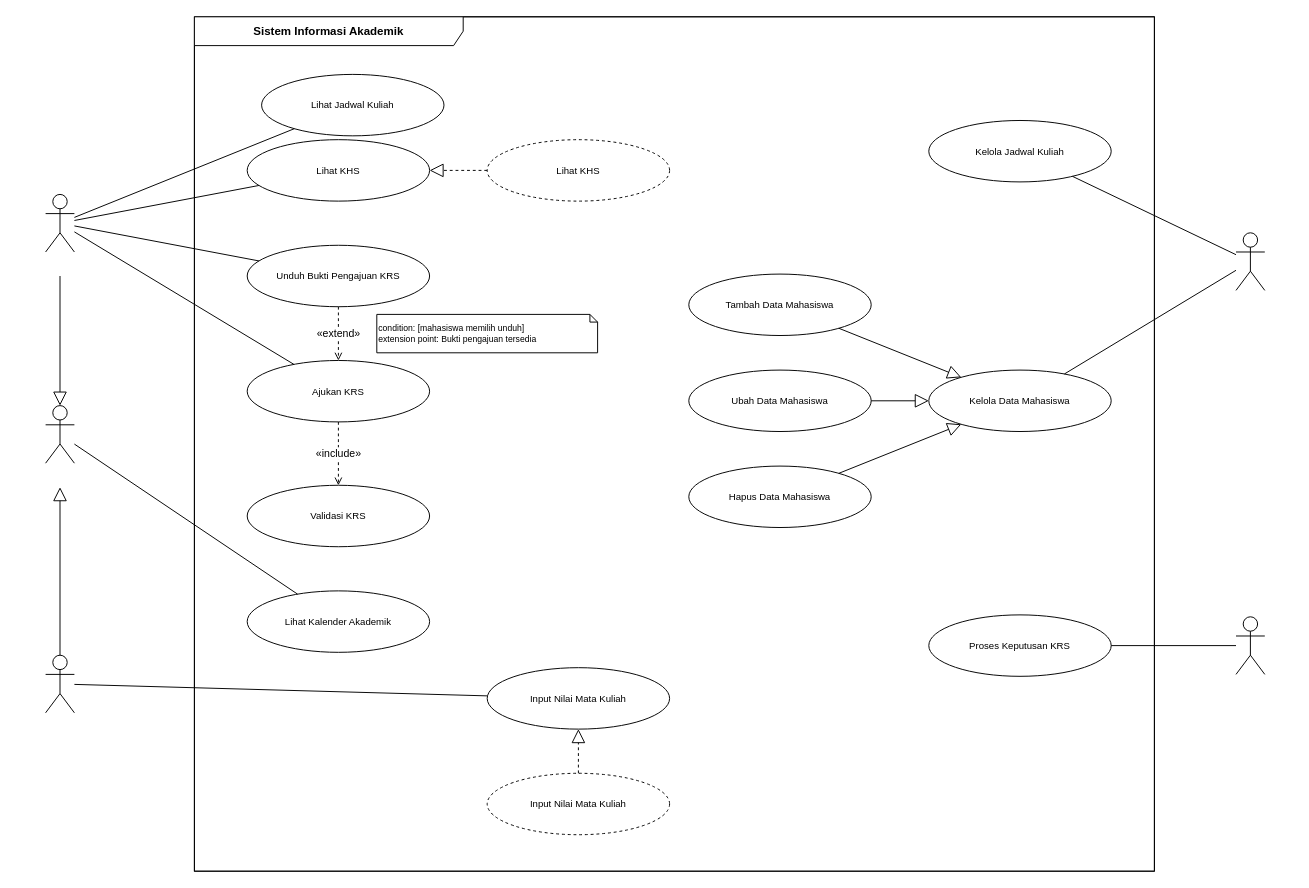
The diagram is 1309 pixels wide and 888 high, and some of its shapes have lost their labels. The shapes that lost their labels are listed below. From the top down, each one's centre as x and y in pixels, then its label:
At (59,222): "Mahasiswa".
At (1250,261): "Admin Akademik".
At (59,434): "Civitas Akademik".
At (1250,645): "Dosen Wali".
At (59,683): "Dosen".
